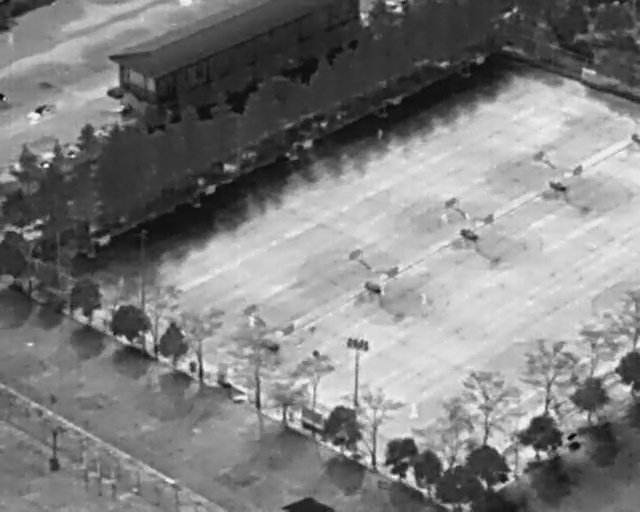Car: (21, 97, 57, 127)
Person: (248, 311, 257, 330), (408, 402, 417, 420), (375, 128, 384, 143), (419, 290, 427, 305), (440, 211, 449, 224), (117, 275, 123, 289)
